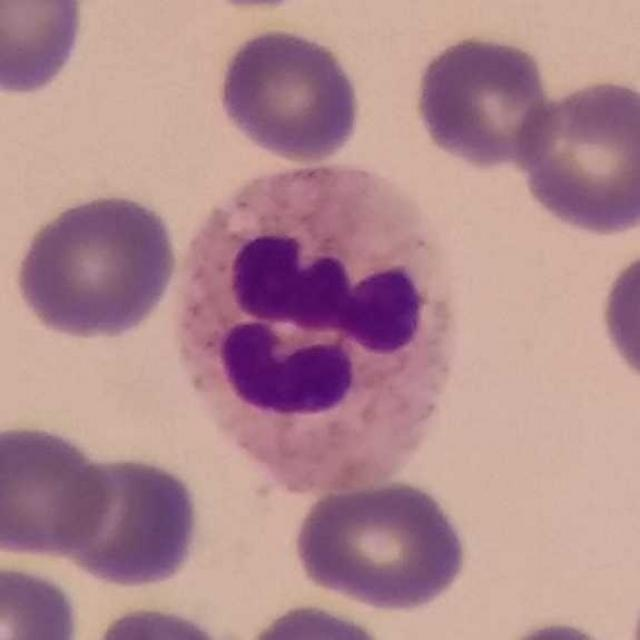Neutrophil: (162, 150, 468, 496)
RBC: (10, 188, 181, 343), (289, 476, 473, 614), (214, 23, 366, 166), (51, 450, 205, 591), (410, 30, 561, 173), (510, 74, 640, 238), (0, 417, 117, 562), (0, 0, 90, 99), (595, 238, 640, 396), (239, 599, 403, 640), (0, 560, 83, 640), (85, 601, 248, 640), (494, 615, 616, 640), (202, 0, 322, 17)
